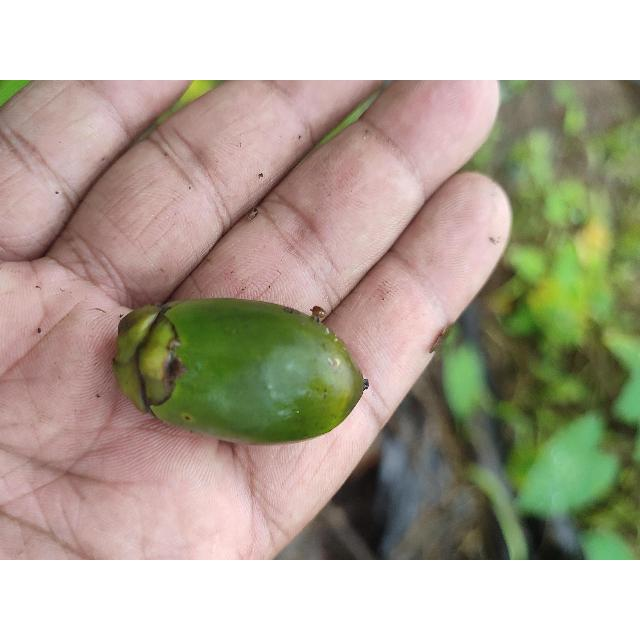good: (117, 304, 368, 444)
